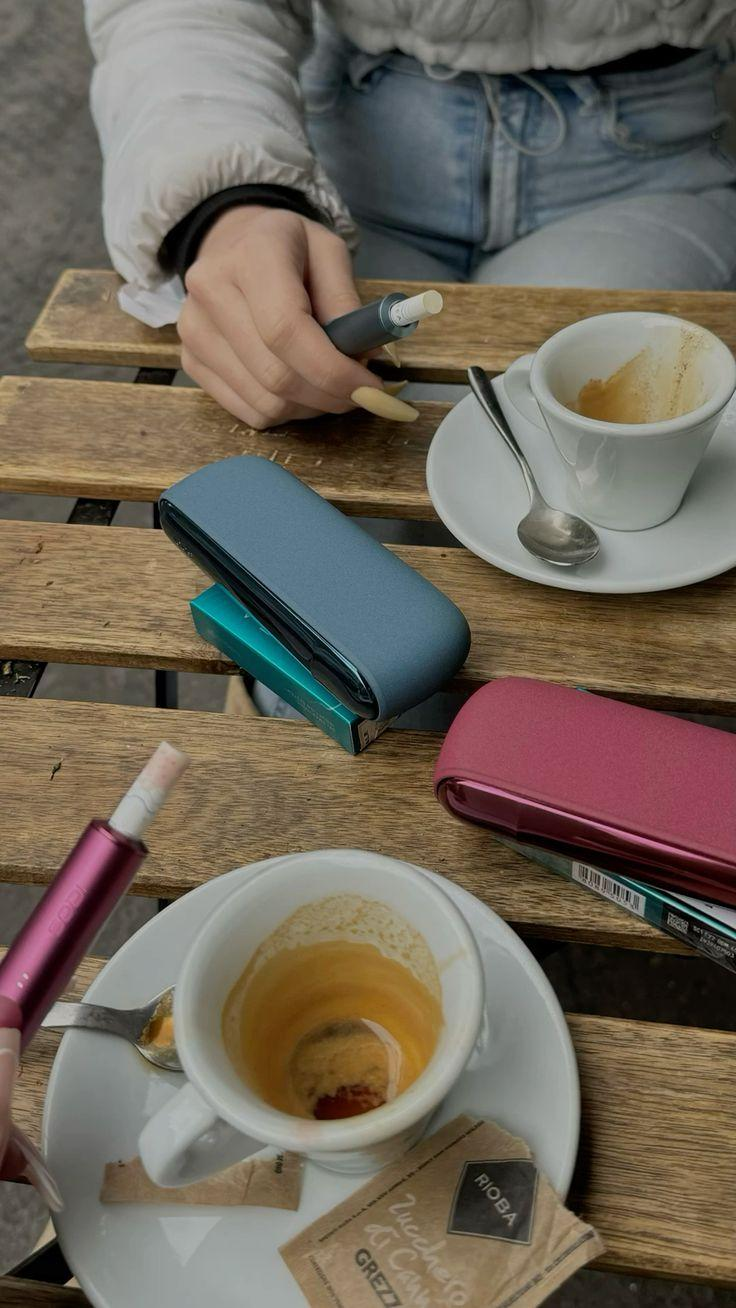iqos: (323, 290, 443, 357)
